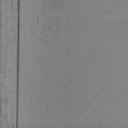surface scratch: (16, 0, 20, 128)
